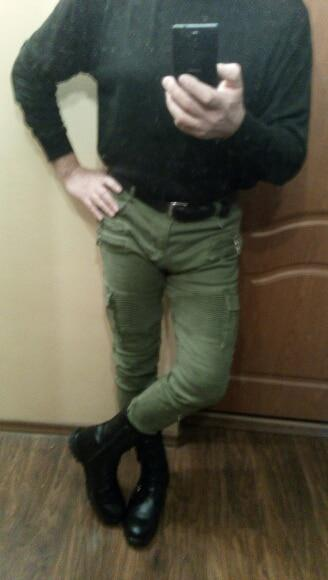jeans: (94, 180, 244, 424)
